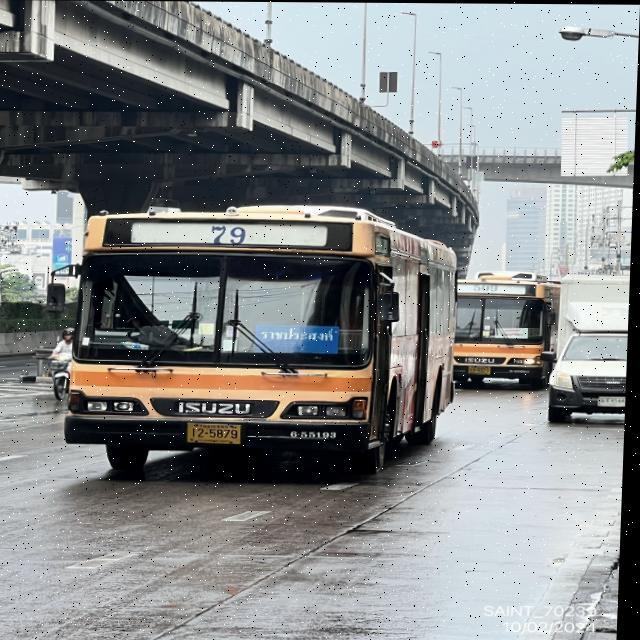BMTA-bus: (64, 205, 463, 481), (456, 273, 564, 389)
Bus-Line-Number: (199, 220, 260, 250), (472, 282, 501, 292)
Destination-Sign-Extra-Bus: (500, 326, 534, 339)
Destination-Sign-Normal: (252, 323, 343, 352)
